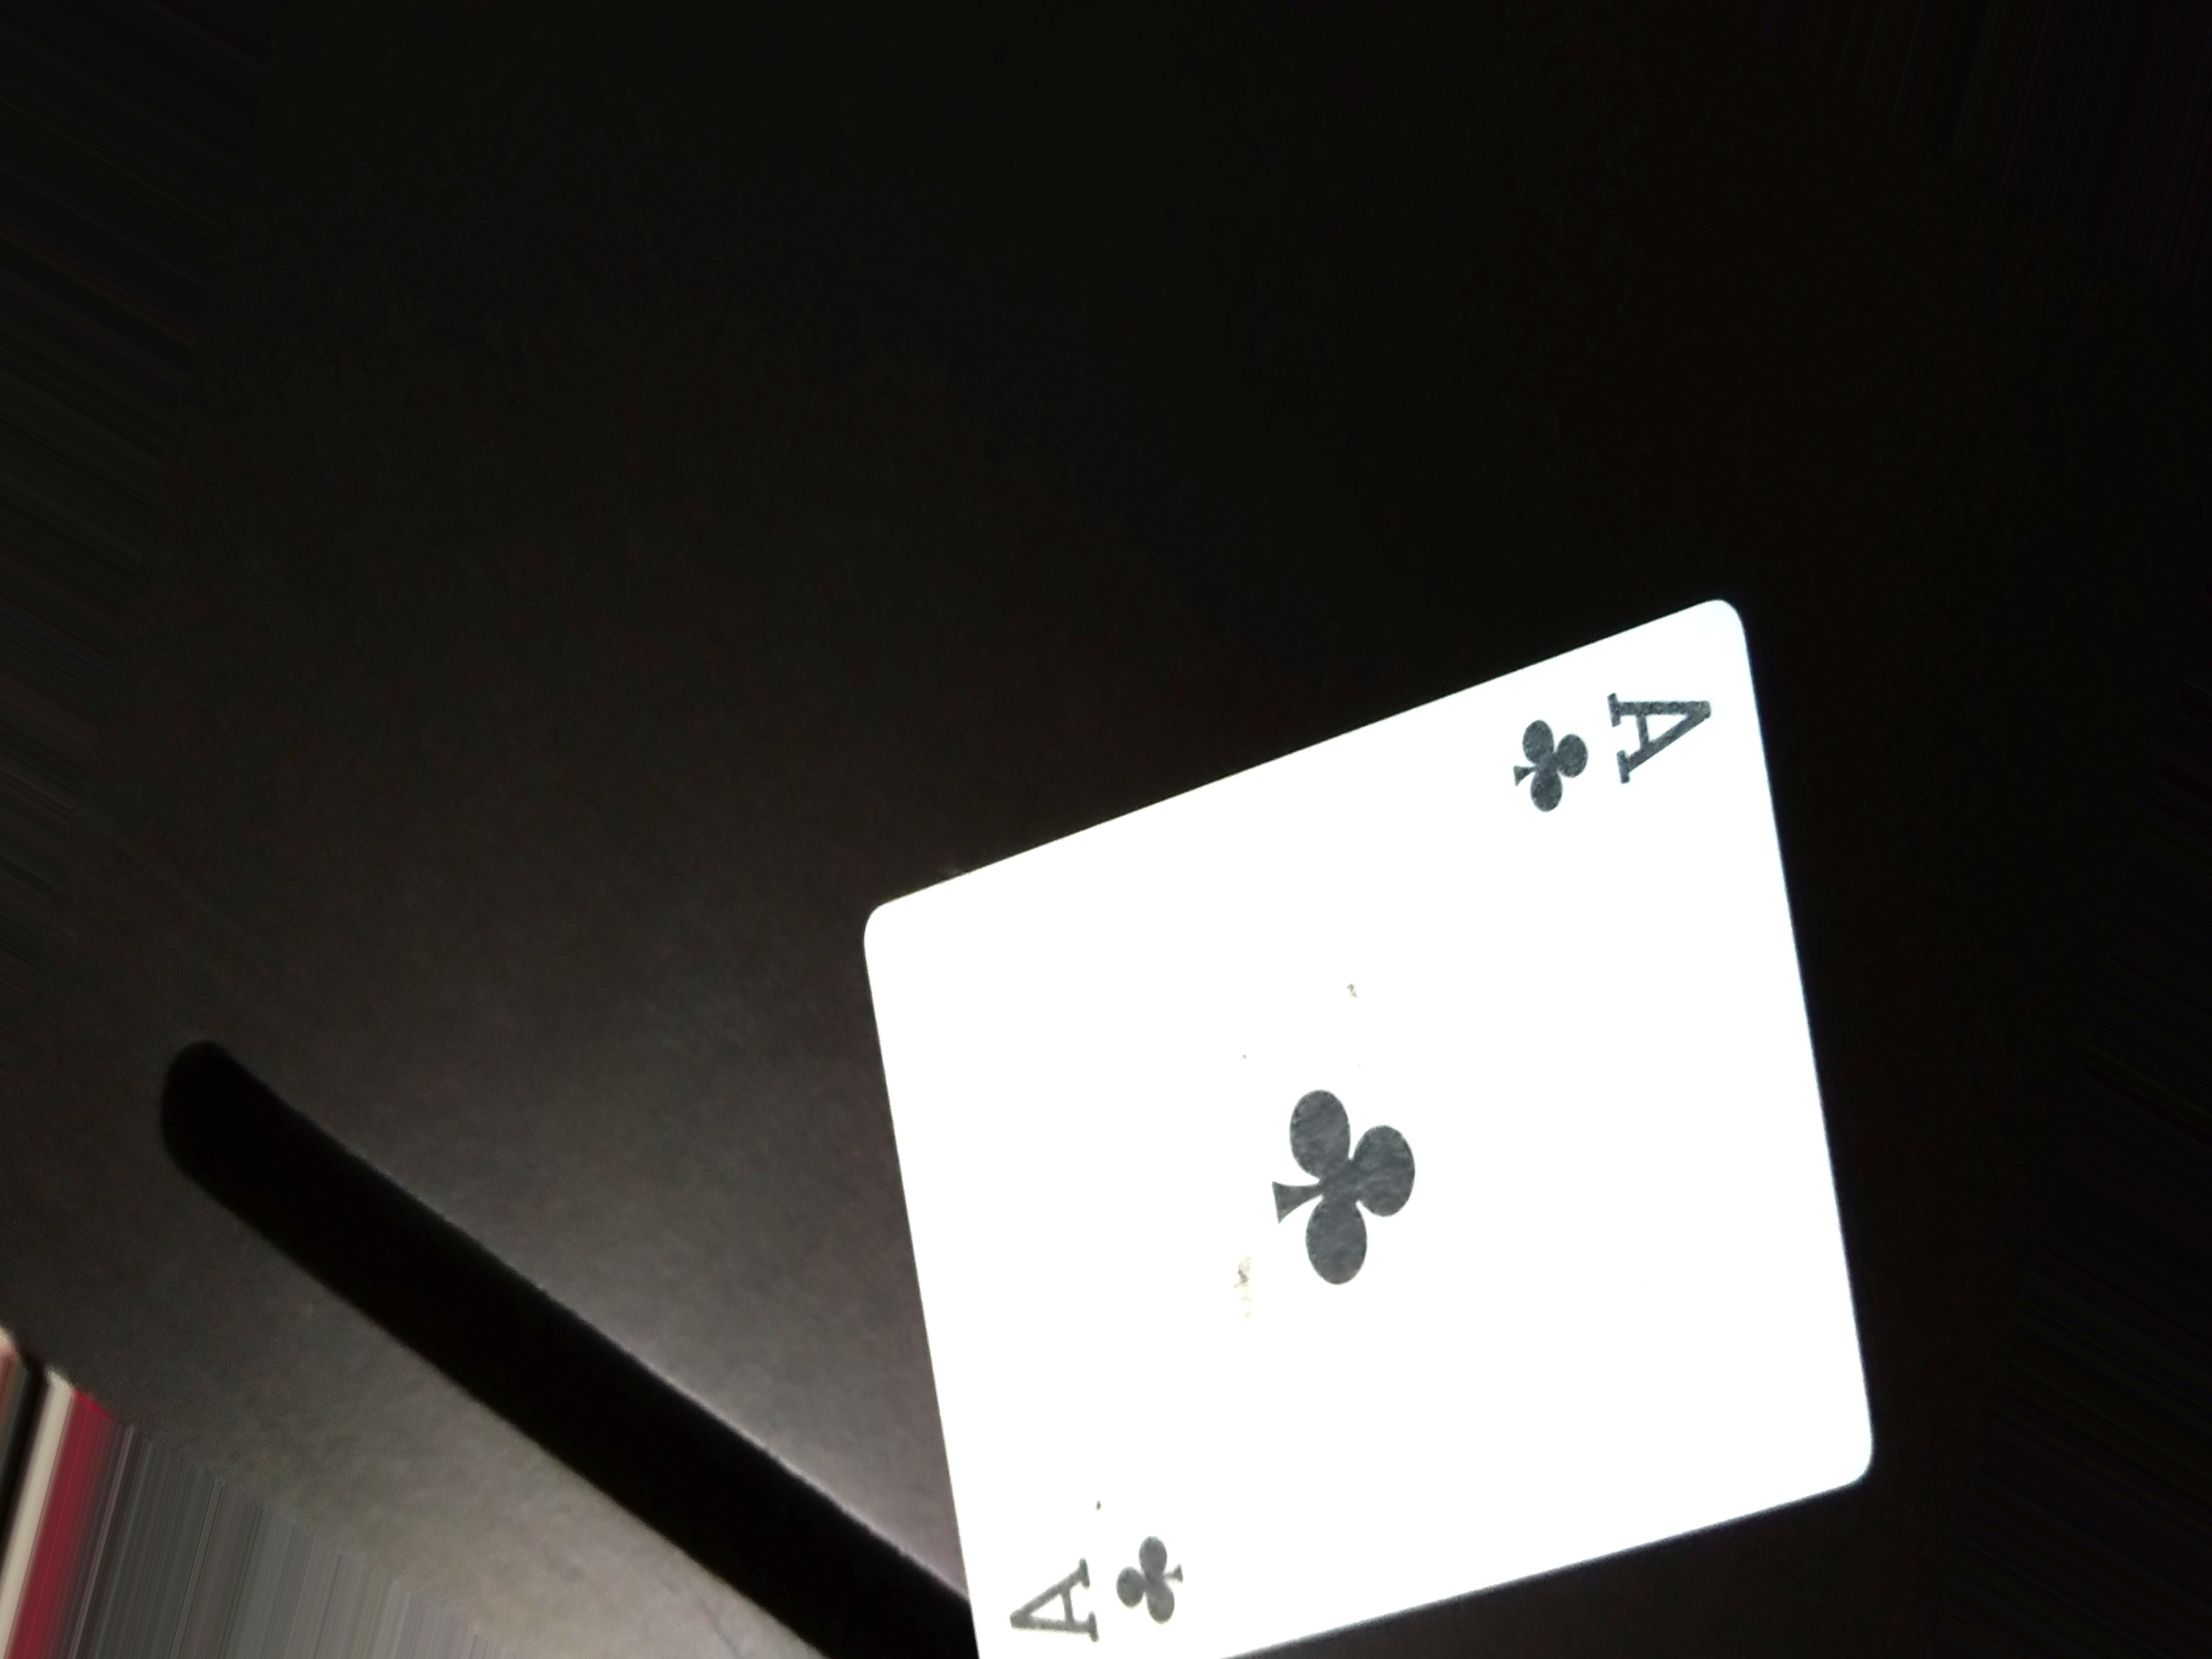AC: (1498, 662, 1724, 821)
